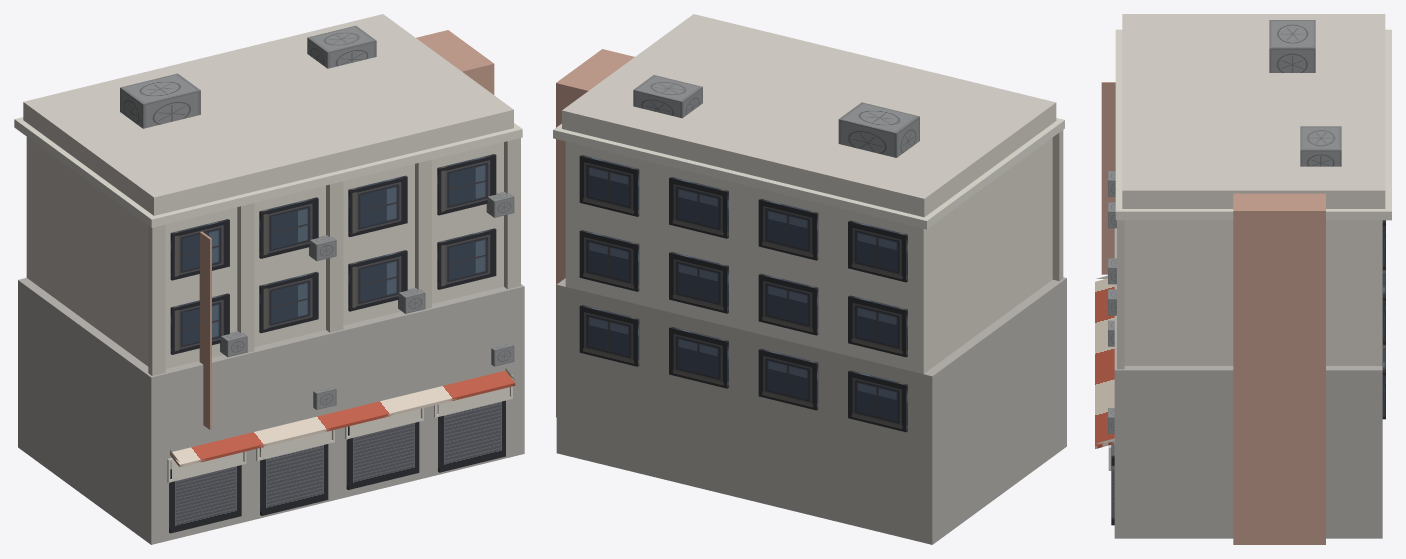
Rendered from street-facade-01.glb.
The picture shows the model from 3 angles, left to right: view 1: azimuth 30°, elevation 25°; view 2: azimuth 150°, elevation 25°; view 3: azimuth 270°, elevation 25°; orthographic projection.
Parts seen in each view (by area): view 1: podium, parapet, body, windows, storefront, pilasters, cornice, canopy, roof-ac, wall-ac, sign-v-frame, core-1 (+4 smaller); view 2: podium, parapet, body, windows, cornice, roof-ac, core-1, pilasters; view 3: parapet, core-1, podium, body, cornice, roof-ac, canopy, sign-v-frame, wall-ac, pilasters, windows.
Boxes of the visible parts, x1=… form: podium: x1=18, y1=278, x2=524, y2=544; parapet: x1=23, y1=14, x2=513, y2=215; body: x1=26, y1=137, x2=503, y2=368; windows: x1=170, y1=154, x2=496, y2=354; storefront: x1=169, y1=400, x2=505, y2=533; pilasters: x1=148, y1=138, x2=520, y2=375; cornice: x1=14, y1=117, x2=522, y2=227; canopy: x1=170, y1=370, x2=515, y2=467; roof-ac: x1=120, y1=25, x2=376, y2=128; wall-ac: x1=220, y1=191, x2=514, y2=409; sign-v-frame: x1=199, y1=231, x2=211, y2=429; core-1: x1=416, y1=30, x2=494, y2=94; podium: x1=556, y1=277, x2=1066, y2=544; parapet: x1=562, y1=14, x2=1056, y2=217; body: x1=565, y1=137, x2=1052, y2=373; windows: x1=579, y1=155, x2=907, y2=432; cornice: x1=553, y1=118, x2=1064, y2=229; roof-ac: x1=633, y1=75, x2=919, y2=157; core-1: x1=556, y1=49, x2=634, y2=417; pilasters: x1=1052, y1=130, x2=1063, y2=281; parapet: x1=1122, y1=14, x2=1385, y2=208; core-1: x1=1233, y1=193, x2=1325, y2=544; podium: x1=1114, y1=228, x2=1382, y2=538; body: x1=1124, y1=220, x2=1382, y2=365; cornice: x1=1115, y1=29, x2=1391, y2=220; roof-ac: x1=1269, y1=20, x2=1341, y2=166; canopy: x1=1095, y1=278, x2=1114, y2=448; sign-v-frame: x1=1101, y1=82, x2=1115, y2=274; wall-ac: x1=1108, y1=171, x2=1116, y2=433; pilasters: x1=1117, y1=220, x2=1124, y2=369; windows: x1=1382, y1=220, x2=1385, y2=419.
Bounding box in the file's own units: 18.1 × 15.8 × 11.5.
Materials: 9 (4 with a texture image).
